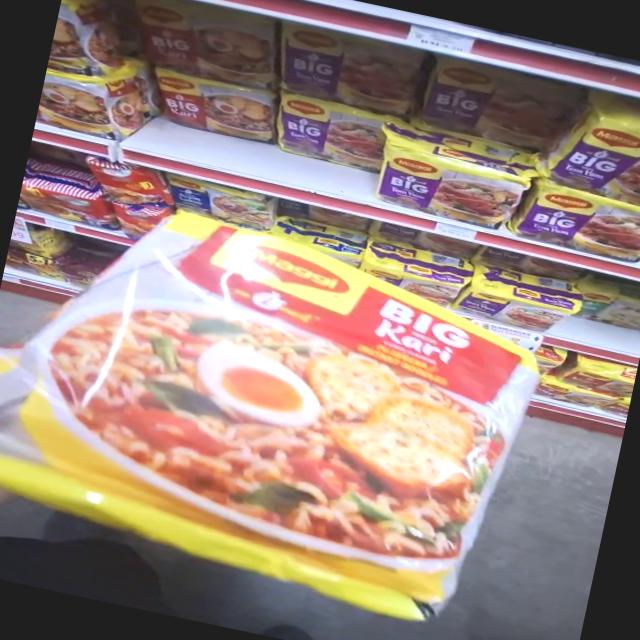Maggi: (0, 178, 562, 632)
